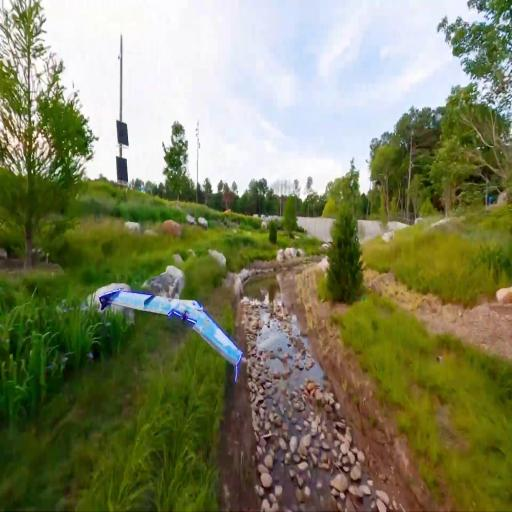uav: (96, 277, 247, 389)
